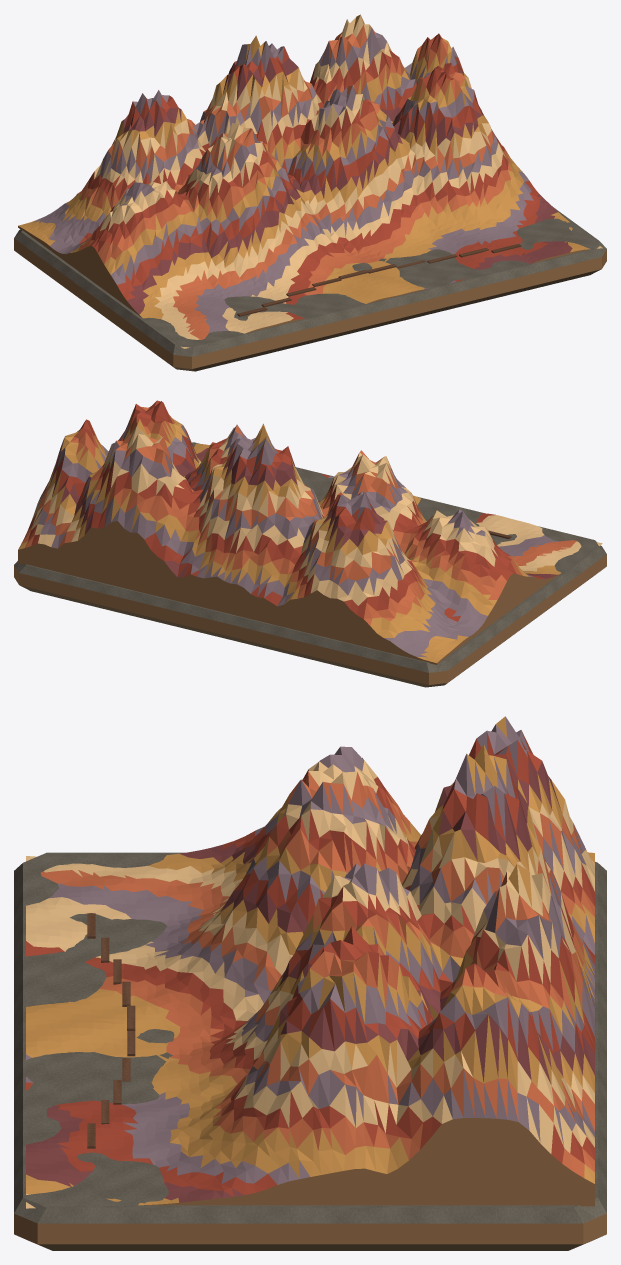
File: zhangye-danxia.glb
3 views of the same model, one above another, from view 1: azimuth 30°, elevation 25°; view 2: azimuth 150°, elevation 25°; view 3: azimuth 270°, elevation 25° (orthographic). The views are drawn at different scales.
Visible parts, largest first — view 1: 张掖七彩丹霞; view 2: 张掖七彩丹霞; view 3: 张掖七彩丹霞.
Part boxes in pixels (x1=…): 张掖七彩丹霞: x1=14, y1=14, x2=606, y2=371; 张掖七彩丹霞: x1=14, y1=400, x2=606, y2=687; 张掖七彩丹霞: x1=14, y1=716, x2=606, y2=1250.
Bounding box in the file's own units: 6.15 × 2.6 × 4.25.
10 materials, 2 textured.
